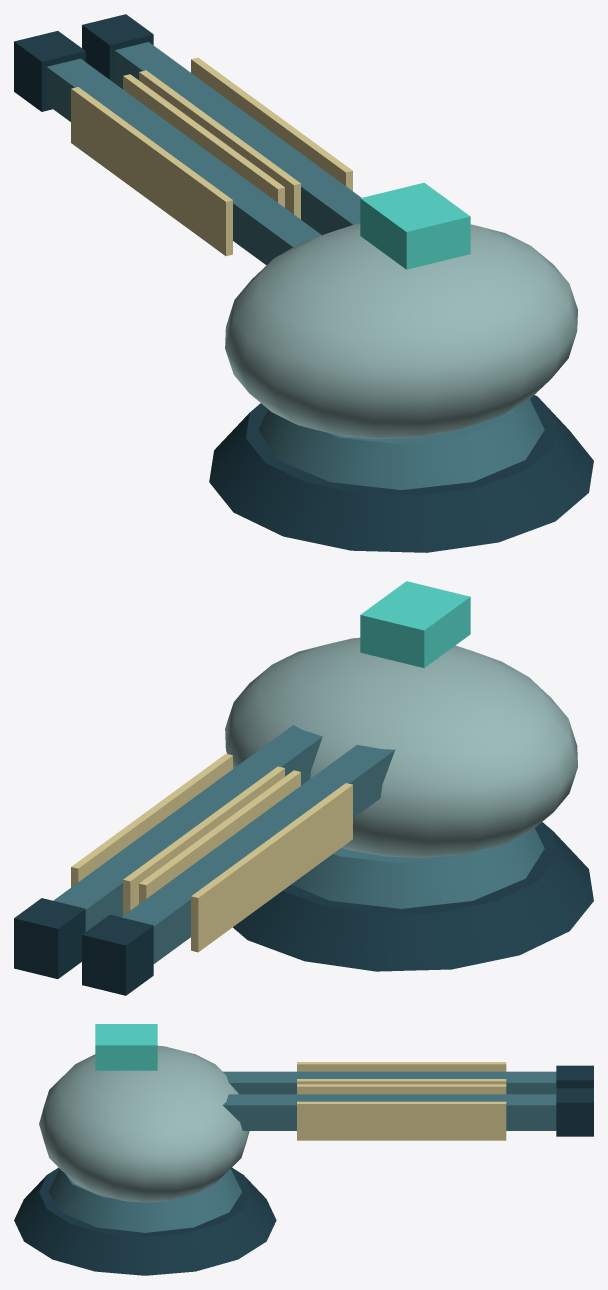
The model's file is pelagic_high_pressure--kinetic_turret.glb.
3 renders of one model, top to bottom at view 1: azimuth 30°, elevation 25°; view 2: azimuth 150°, elevation 25°; view 3: azimuth 270°, elevation 25°, orthographic. The views are drawn at different scales.
Parts seen in each view (by area): view 1: pressure_module_housing_3, mount_adapter_1, rotation_bearing_2, weapon_barrel_4, rail_accelerator_6, weapon_barrel_8, targeting_unit_12, rail_accelerator_7, rail_accelerator_11, muzzle_5, rail_accelerator_10, muzzle_9; view 2: pressure_module_housing_3, mount_adapter_1, rotation_bearing_2, weapon_barrel_4, rail_accelerator_6, weapon_barrel_8, targeting_unit_12, muzzle_5, muzzle_9, rail_accelerator_11, rail_accelerator_7, rail_accelerator_10; view 3: pressure_module_housing_3, mount_adapter_1, rail_accelerator_11, rotation_bearing_2, weapon_barrel_8, weapon_barrel_4, targeting_unit_12, rail_accelerator_10, rail_accelerator_6, muzzle_9, rail_accelerator_7, muzzle_5.
Part boxes in pixels (x1,y1,x2,y2): pressure_module_housing_3: (225,223,577,439); mount_adapter_1: (209,395,593,552); rotation_bearing_2: (258,399,544,489); weapon_barrel_4: (46,58,321,265); rail_accelerator_6: (71,87,232,256); weapon_barrel_8: (114,42,361,234); targeting_unit_12: (360,182,470,269); rail_accelerator_7: (123,74,284,207); rail_accelerator_11: (191,57,352,190); muzzle_5: (14,31,85,111); rail_accelerator_10: (139,70,300,219); muzzle_9: (82,14,153,82); pressure_module_housing_3: (225,637,577,857); mount_adapter_1: (233,822,593,971); rotation_bearing_2: (291,828,544,908); weapon_barrel_4: (121,745,395,963); rail_accelerator_6: (191,783,352,952); weapon_barrel_8: (53,725,322,931); targeting_unit_12: (360,581,470,667); muzzle_5: (82,914,153,995); muzzle_9: (14,898,85,978); rail_accelerator_11: (71,753,232,887); rail_accelerator_7: (139,770,300,903); rail_accelerator_10: (123,766,284,915); pressure_module_housing_3: (39,1045,249,1202); mount_adapter_1: (14,1167,276,1275); rail_accelerator_11: (297,1101,506,1140); rotation_bearing_2: (48,1168,241,1232); weapon_barrel_8: (222,1094,556,1130); weapon_barrel_4: (223,1071,556,1094); targeting_unit_12: (95,1024,157,1070); rail_accelerator_10: (297,1084,506,1094); rail_accelerator_6: (297,1062,506,1071); muzzle_9: (556,1088,593,1136); rail_accelerator_7: (297,1079,506,1084); muzzle_5: (556,1065,593,1088).
Size of the model in its own units: 10.08 by 7.86 by 22.26.
